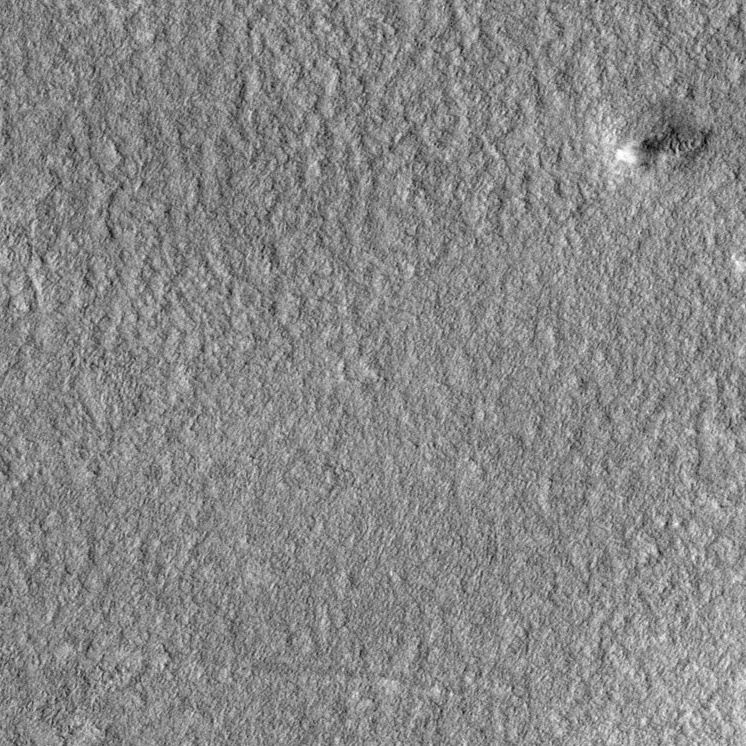dust_devil: (610, 122, 707, 172)
